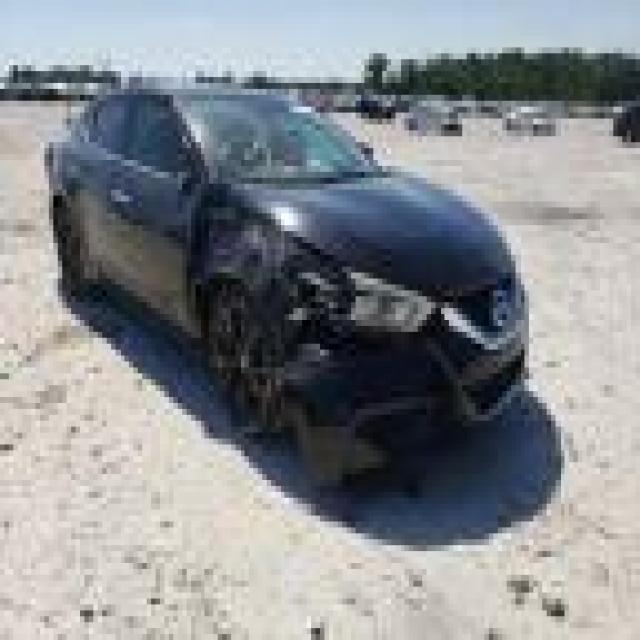moderate: (141, 192, 367, 452)
